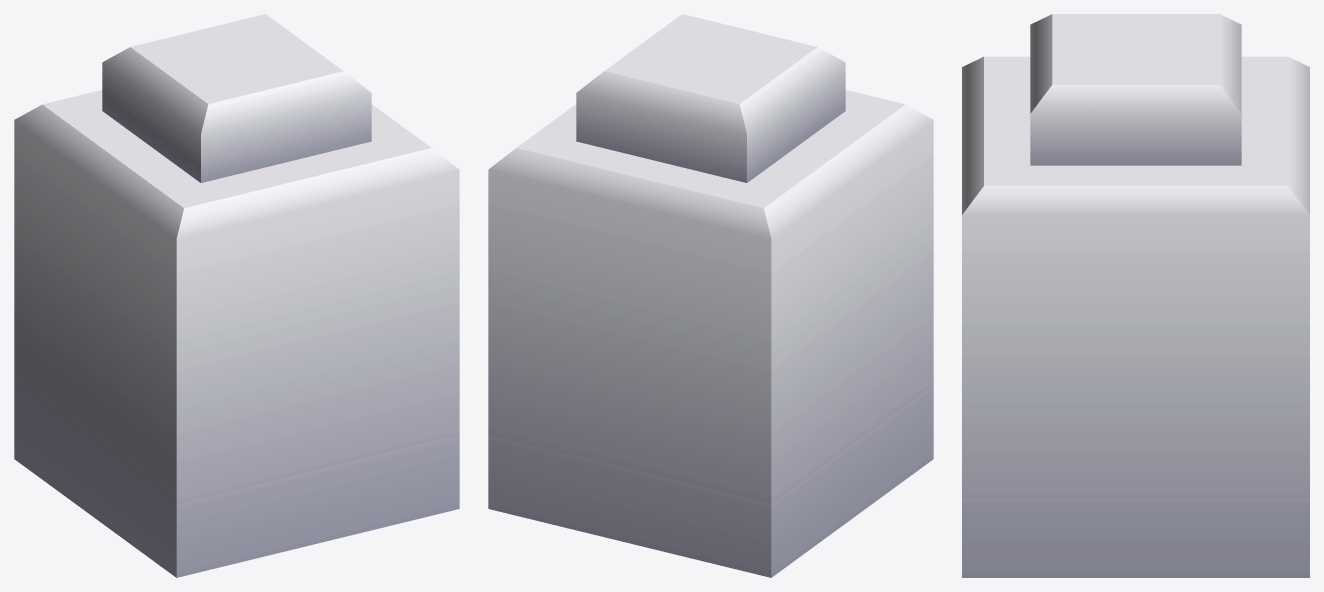
Rendered from square-hq-brick-1x1.glb.
The picture shows the model from 3 angles, left to right: view 1: azimuth 30°, elevation 25°; view 2: azimuth 150°, elevation 25°; view 3: azimuth 270°, elevation 25°; orthographic projection. The views are drawn at different scales.
Visible parts, largest first — view 1: square-hq-brick-1x1; view 2: square-hq-brick-1x1; view 3: square-hq-brick-1x1.
Part boxes in pixels (<box>): square-hq-brick-1x1: <box>14,14,459,577</box>; square-hq-brick-1x1: <box>488,14,933,577</box>; square-hq-brick-1x1: <box>962,14,1309,577</box>.
Bounding box in the file's own units: 0.0795 × 0.114 × 0.079.
1 material, 1 textured.
